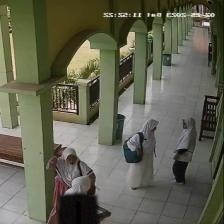Cadar_Niqab: (57, 175, 98, 224)
